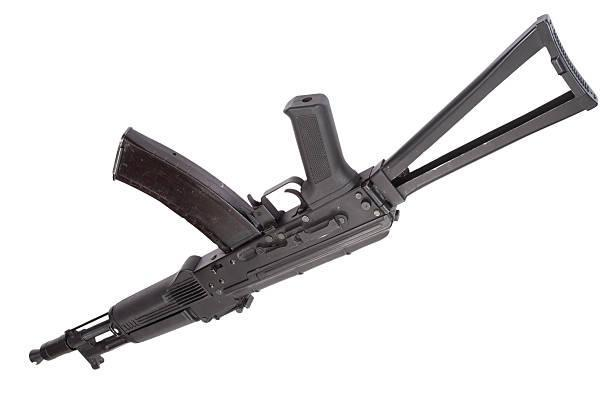larga: (28, 14, 599, 372)
